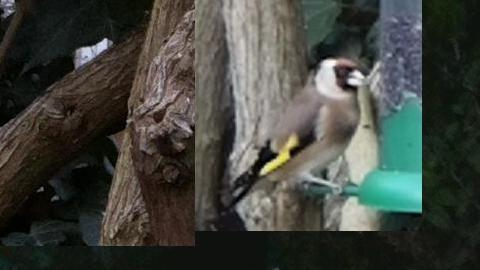goldfinch: (218, 50, 372, 213)
